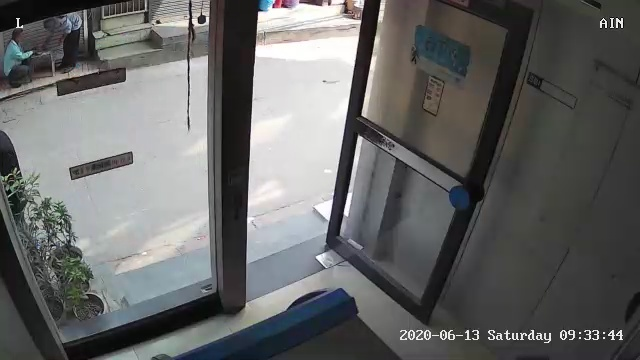open: (187, 2, 543, 335)
